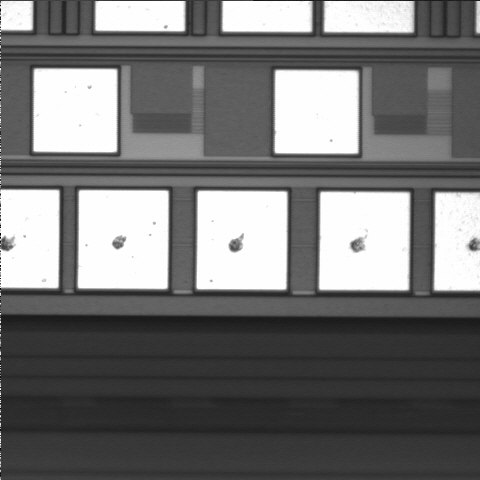pad: (319, 192, 410, 290), (78, 190, 168, 289), (197, 191, 287, 290), (275, 70, 358, 154), (34, 69, 117, 152)
